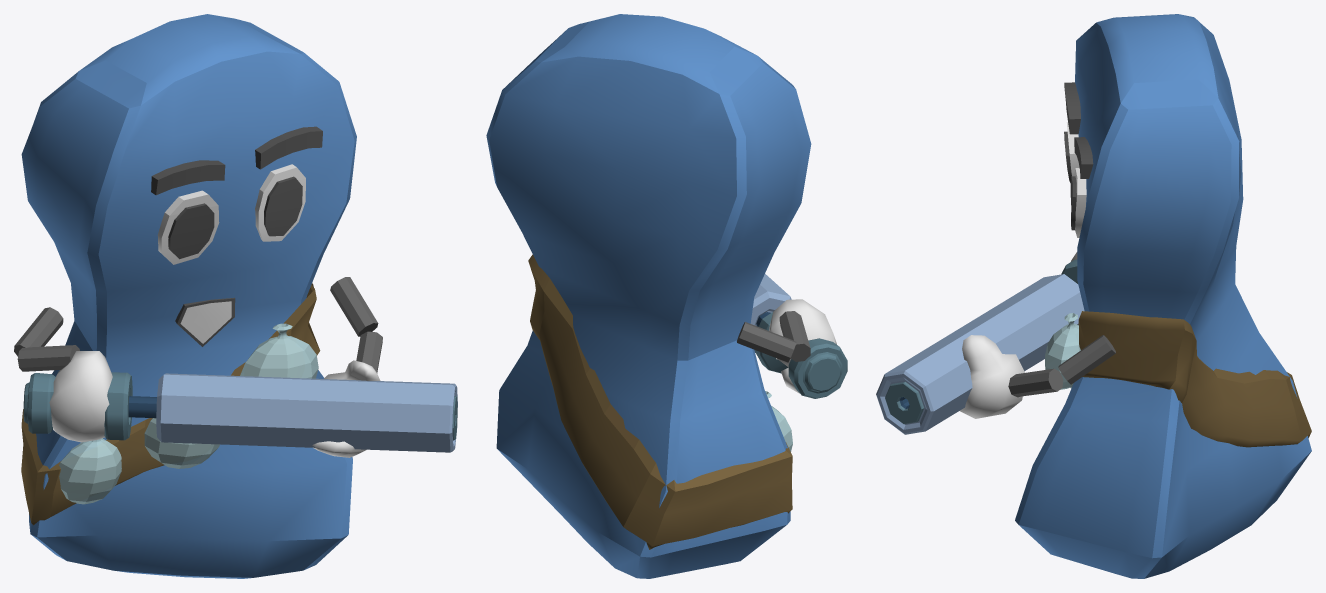
Rendered from Blue_Team_Battle_Pose.fbx.
The picture shows the model from 3 angles, left to right: view 1: azimuth 30°, elevation 25°; view 2: azimuth 150°, elevation 25°; view 3: azimuth 270°, elevation 25°; orthographic projection. The views are drawn at different scales.
Parts seen in each view (by area): view 1: pasted__pasted__polySurface7; view 2: pasted__pasted__polySurface7; view 3: pasted__pasted__polySurface7.
Part boxes in pixels (x1,y1,x2,y2): pasted__pasted__polySurface7: (14, 14, 457, 578); pasted__pasted__polySurface7: (486, 14, 847, 578); pasted__pasted__polySurface7: (876, 14, 1311, 578).
Size of the model in its own units: 40.38 by 60.32 by 46.47.
